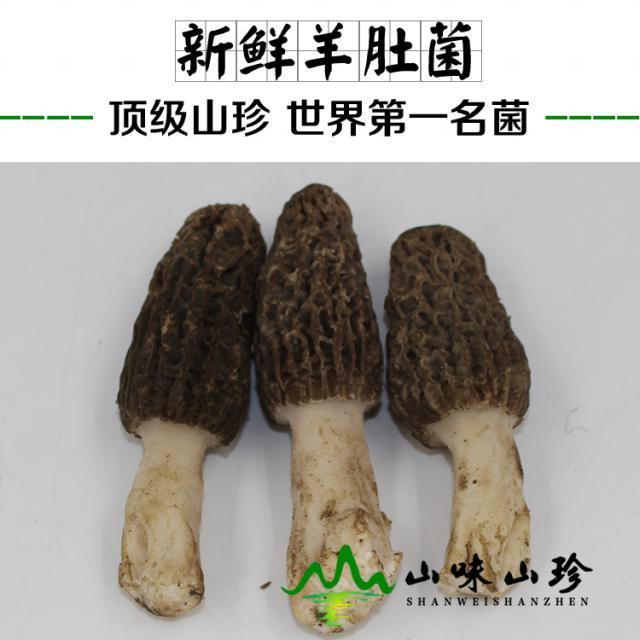Morchella esculenta: (120, 202, 259, 615), (386, 219, 537, 590), (276, 182, 397, 631)
